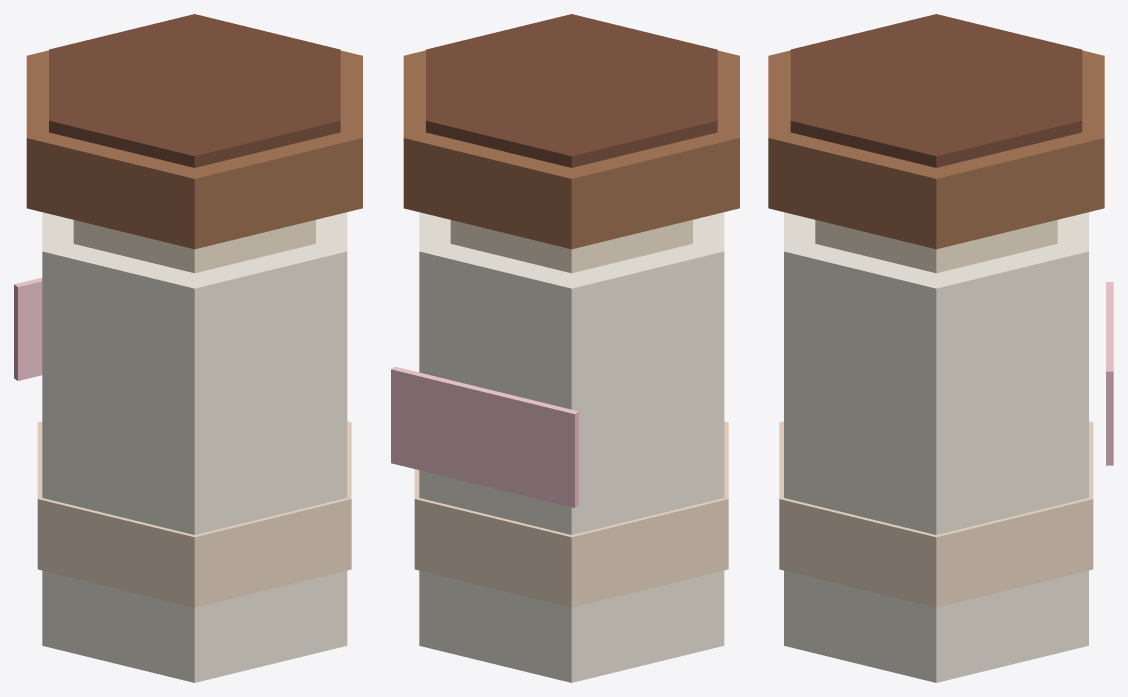
File: 02_FrascoAzucar.obj
3 renders of one model, left to right at view 1: azimuth 30°, elevation 25°; view 2: azimuth 150°, elevation 25°; view 3: azimuth 270°, elevation 25°, orthographic.
Parts seen in each view (by area): view 1: frasco, detalle_tapa, tapa, cintillo, cuello, etiqueta; view 2: frasco, detalle_tapa, tapa, cintillo, etiqueta, cuello; view 3: frasco, detalle_tapa, tapa, cintillo, cuello, etiqueta.
Part boxes in pixels (box(x1,y1,x2,y2)): frasco: box(42, 212, 347, 682); detalle_tapa: box(49, 14, 340, 167); tapa: box(26, 50, 362, 249); cintillo: box(37, 421, 351, 607); cuello: box(73, 220, 315, 273); etiqueta: box(14, 277, 42, 380); frasco: box(419, 212, 724, 682); detalle_tapa: box(426, 14, 717, 167); tapa: box(403, 50, 739, 249); cintillo: box(414, 421, 728, 607); etiqueta: box(391, 366, 578, 507); cuello: box(450, 220, 692, 273); frasco: box(784, 212, 1088, 682); detalle_tapa: box(790, 14, 1082, 167); tapa: box(768, 50, 1104, 249); cintillo: box(779, 421, 1093, 607); cuello: box(815, 220, 1057, 273); etiqueta: box(1106, 282, 1113, 465).
Size of the model in its own units: 0.15 by 0.223 by 0.1335.
